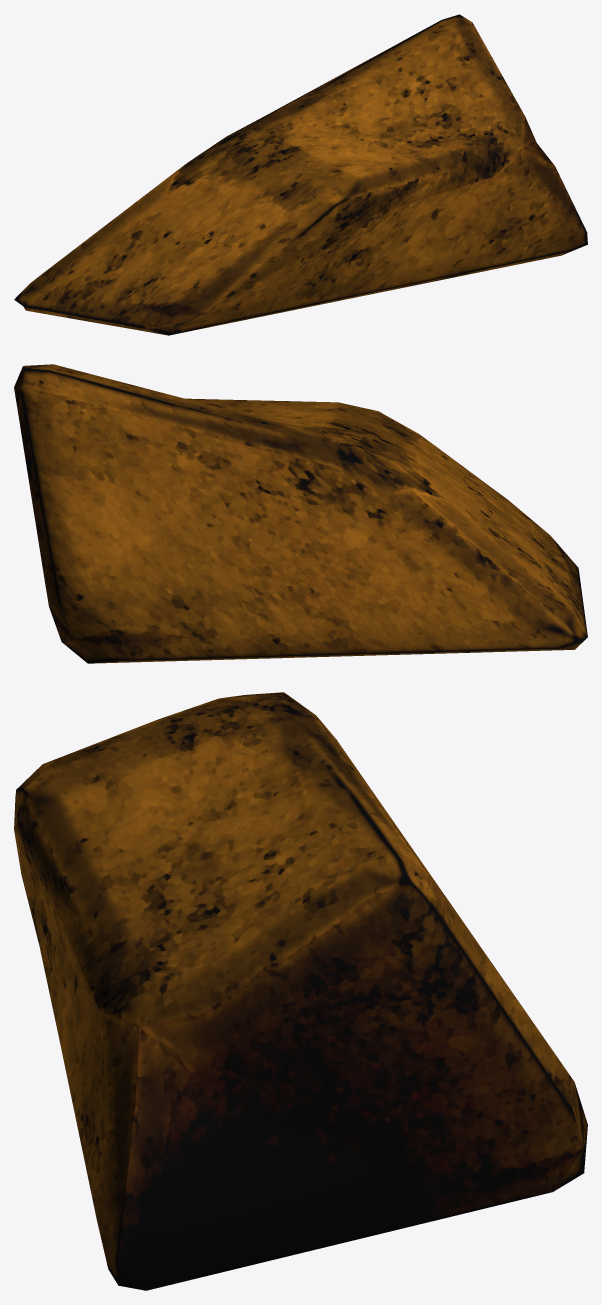
The model's file is boulder 2 mk2.fbx.
The picture shows the model from 3 angles, top to bottom: view 1: azimuth 30°, elevation 25°; view 2: azimuth 150°, elevation 25°; view 3: azimuth 270°, elevation 25°; orthographic projection. The views are drawn at different scales.
Parts seen in each view (by area): view 1: Boulders_1_1; view 2: Boulders_1_1; view 3: Boulders_1_1.
Part boxes in pixels (bbox=[...]): Boulders_1_1: bbox=[14, 14, 587, 335]; Boulders_1_1: bbox=[14, 364, 587, 663]; Boulders_1_1: bbox=[14, 692, 587, 1290].
Bounding box in the file's own units: 34.31 × 12.8 × 16.94.
